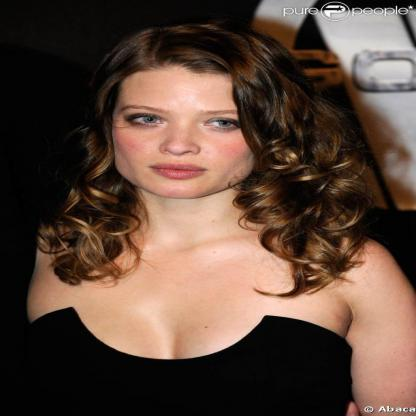long-hair: (48, 198, 352, 264)
